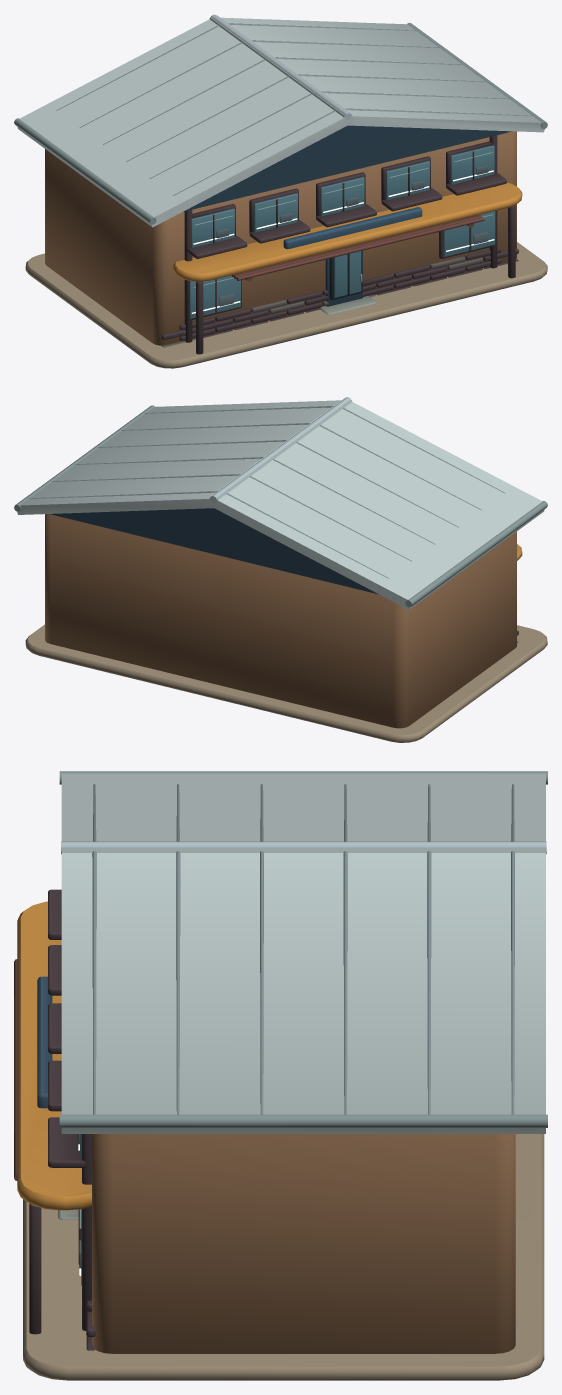
Rendered from alpine_motel.glb.
3 renders of one model, top to bottom at view 1: azimuth 30°, elevation 25°; view 2: azimuth 150°, elevation 25°; view 3: azimuth 270°, elevation 25°, orthographic. The views are drawn at different scales.
Visible parts, largest first — view 1: Motel; view 2: Motel; view 3: Motel.
Boxes of the visible parts, box(x1,y1,x2,y2) form: Motel: box(14, 14, 547, 368); Motel: box(14, 397, 547, 742); Motel: box(14, 771, 547, 1380).
Size of the model in its own units: 12.28 by 6.01 by 7.94.
